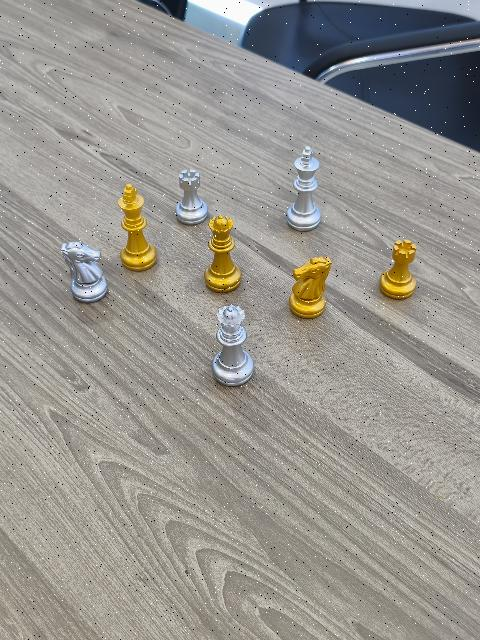black_king: (118, 184, 158, 273)
black_knight: (287, 254, 334, 321)
black_queen: (203, 216, 244, 294)
black_rook: (377, 240, 419, 302)
white_king: (285, 145, 324, 233)
white_knight: (60, 239, 111, 306)
white_queen: (209, 303, 256, 387)
white_rook: (174, 169, 209, 226)
